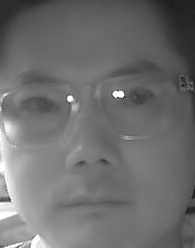glass: (93, 70, 186, 139), (1, 83, 78, 148)
mouth: (60, 184, 134, 223)
